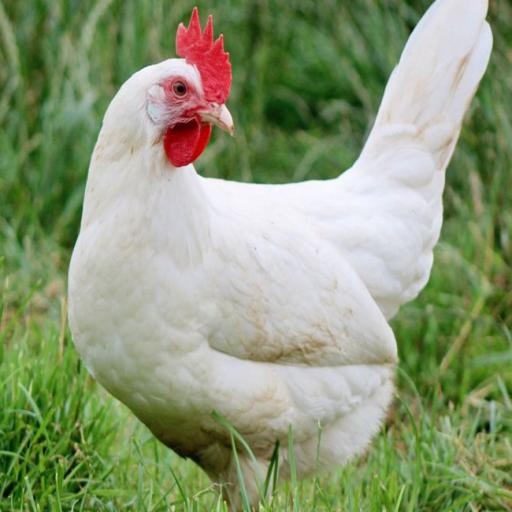healthy: (144, 13, 245, 157)
